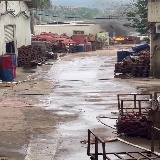fire: (114, 37, 124, 40)
